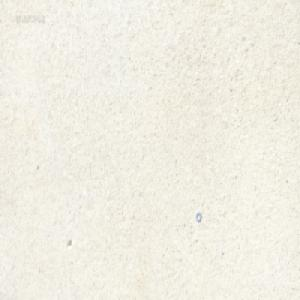Washer: (195, 211, 201, 222)
